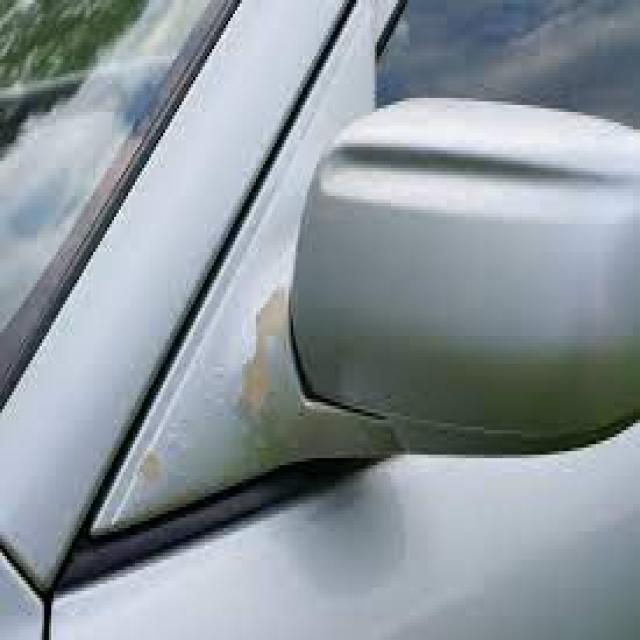paint-chip: (114, 279, 292, 520)
